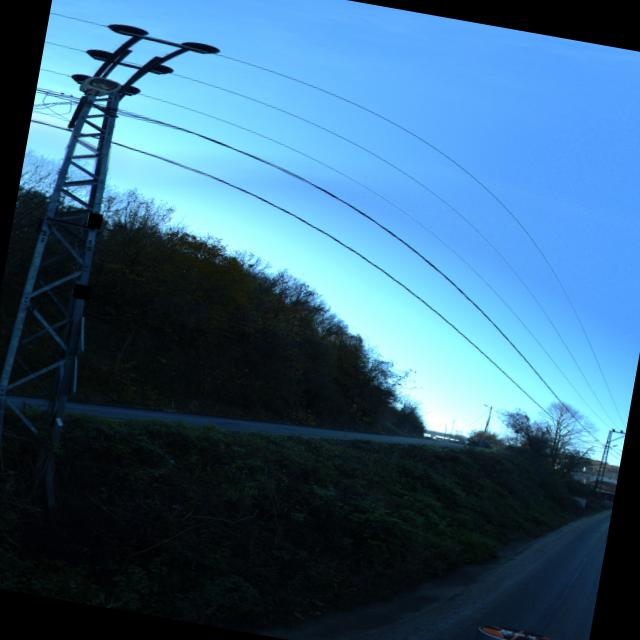Utility Pole Information Plate: (74, 283, 91, 300), (87, 212, 103, 229)
